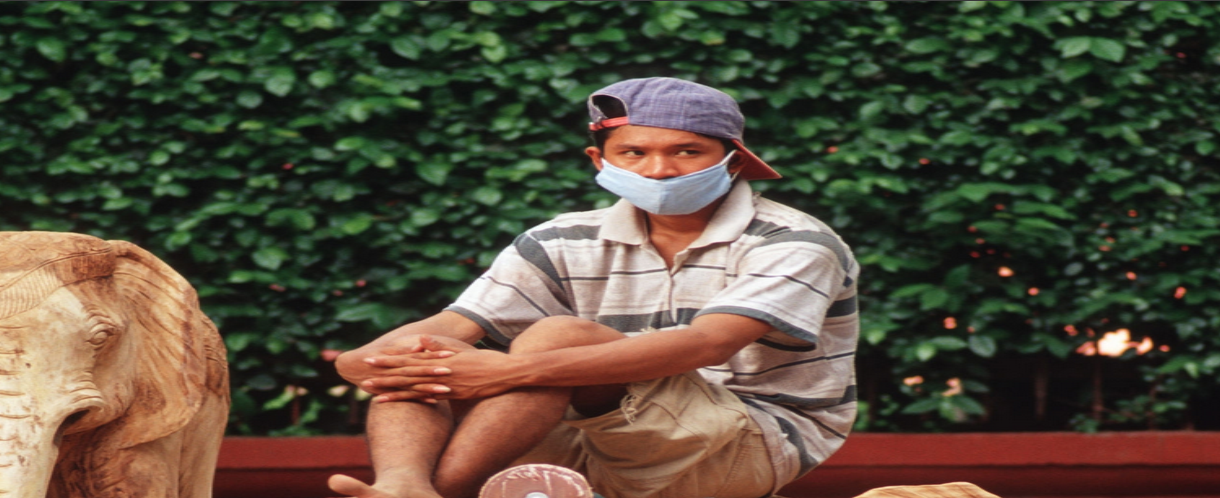mask_weared_incorrect: (577, 75, 771, 227)
